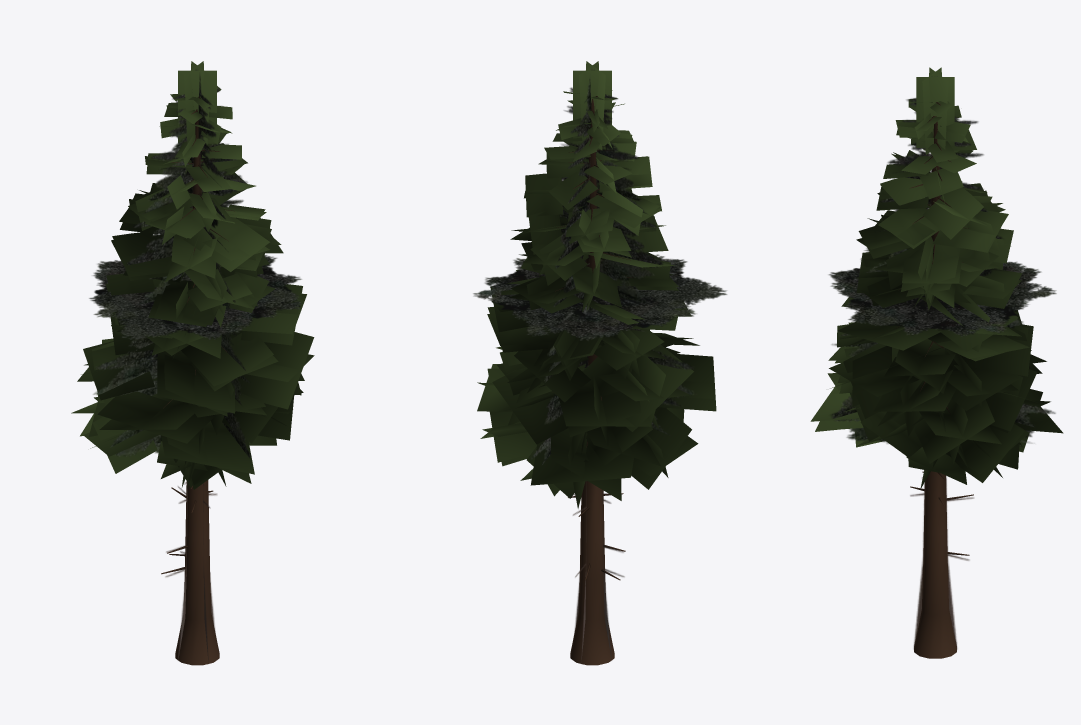
The model's file is veg.tree.sugi.glb.
The picture shows the model from 3 angles, left to right: view 1: azimuth 30°, elevation 25°; view 2: azimuth 150°, elevation 25°; view 3: azimuth 270°, elevation 25°; orthographic projection. The views are drawn at different scales.
Visible parts, largest first — view 1: LOD0, IMP; view 2: LOD0, IMP; view 3: LOD0, IMP.
Part boxes in pixels (bbox=[...]): LOD0: bbox=[71, 61, 314, 665]; IMP: bbox=[89, 69, 301, 662]; LOD0: bbox=[477, 61, 716, 665]; IMP: bbox=[473, 69, 726, 662]; LOD0: bbox=[810, 67, 1063, 658]; IMP: bbox=[828, 76, 1056, 649].
Size of what is drawn, in the model's own units: 6.17 by 15.2 by 6.17.
3 materials, 1 textured.
